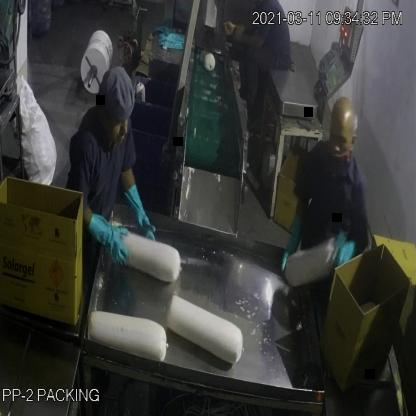glove: (125, 184, 163, 247)
no_glove: (216, 17, 264, 52)
